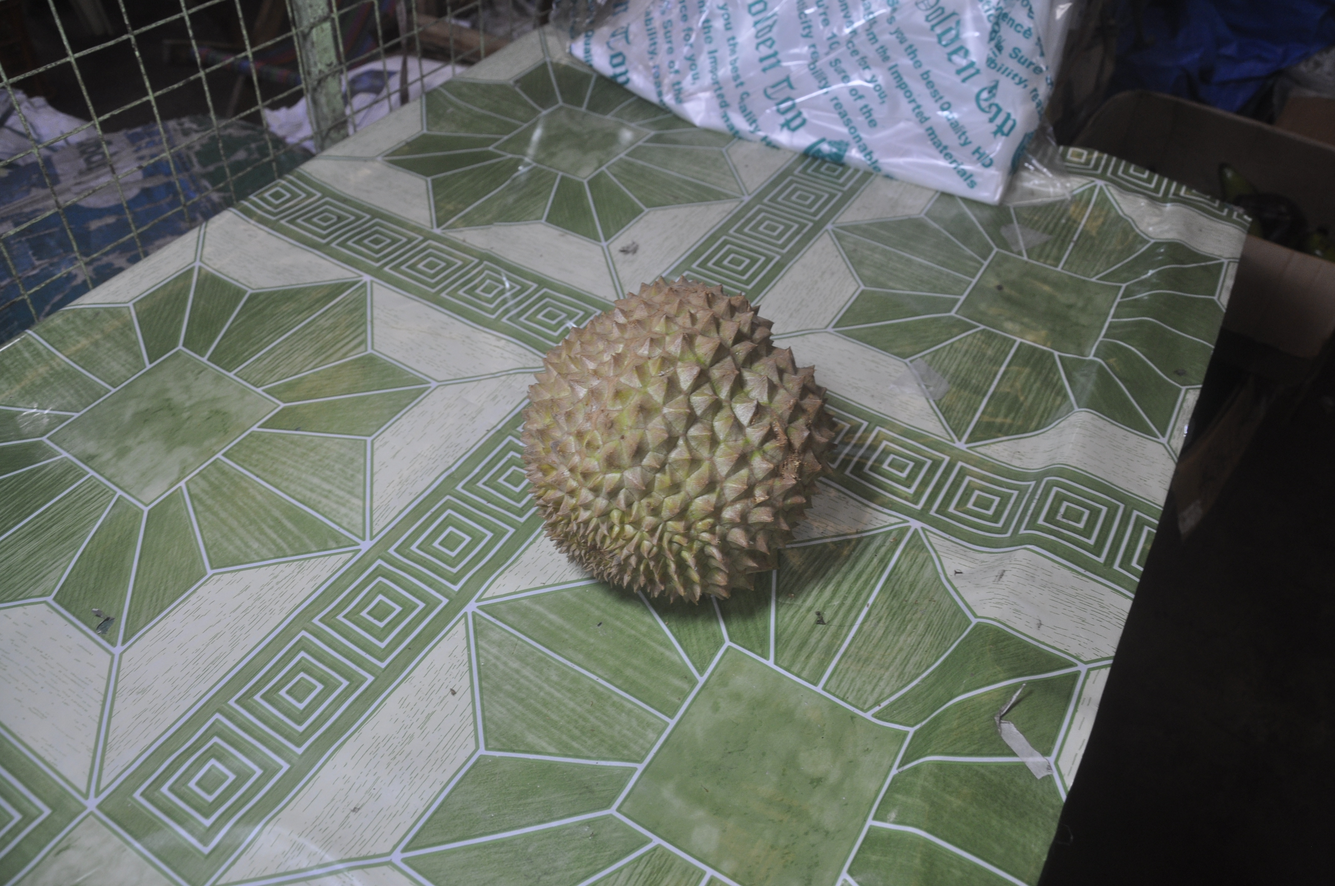mature: (523, 278, 835, 602)
